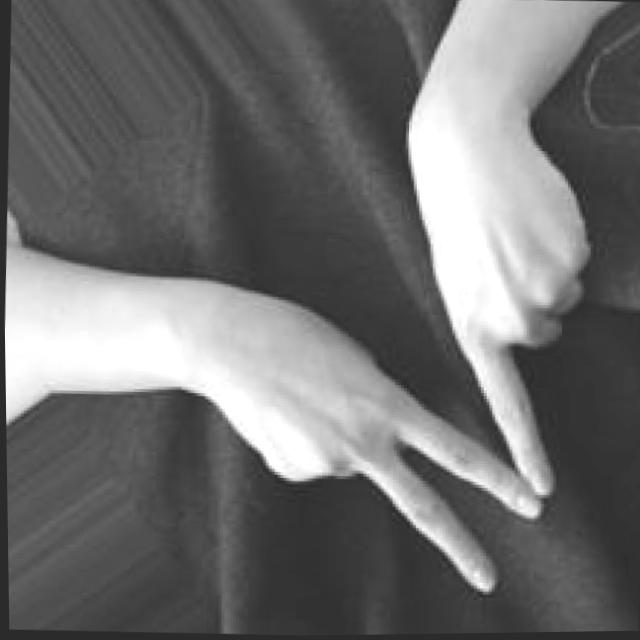N: (173, 134, 604, 605)
